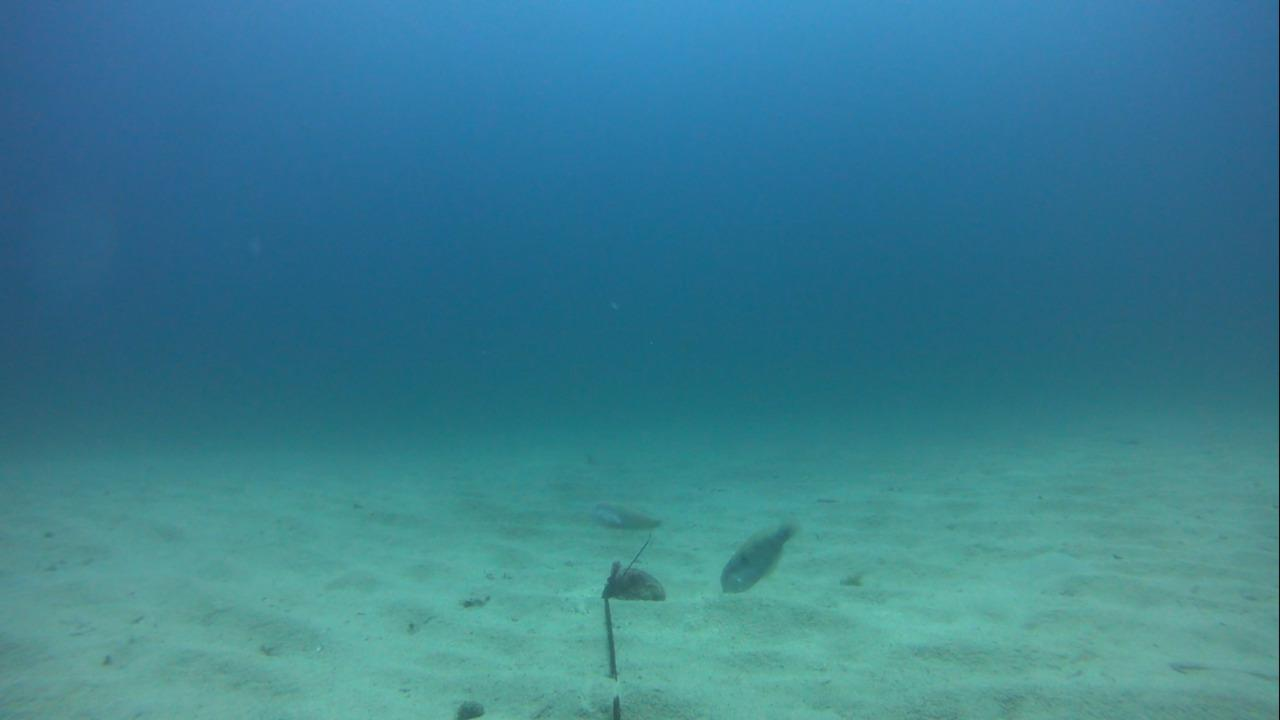raor: (715, 520, 804, 595), (578, 493, 669, 537)
